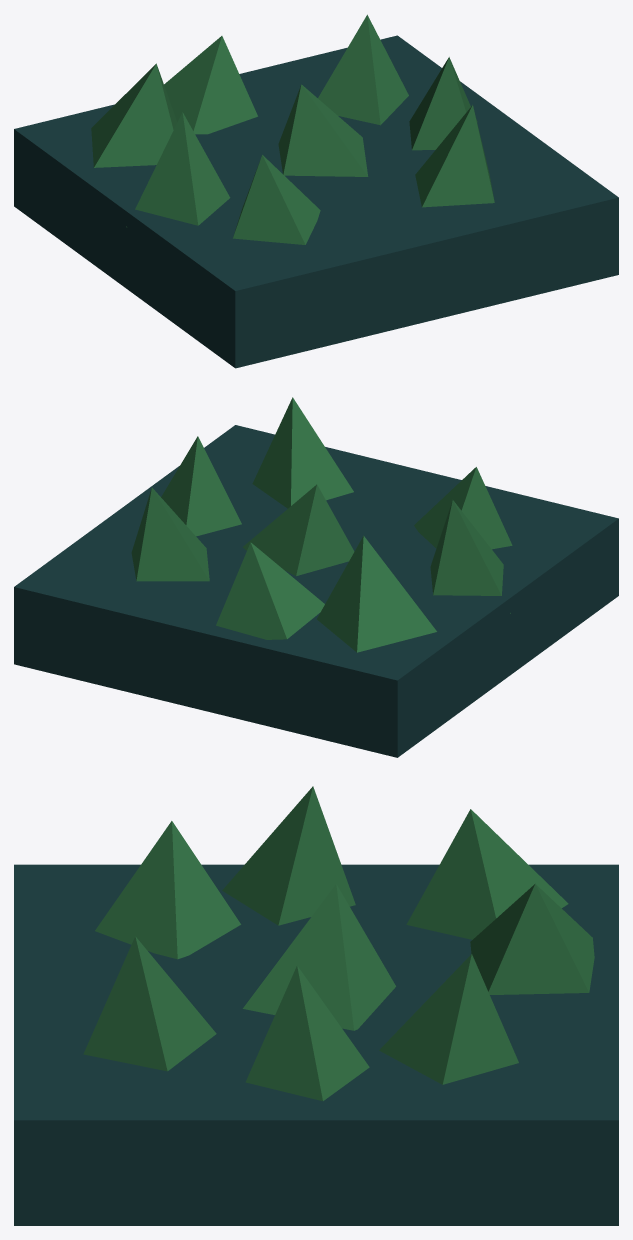
File: tuft.glb
The picture shows the model from 3 angles, top to bottom: view 1: azimuth 30°, elevation 25°; view 2: azimuth 150°, elevation 25°; view 3: azimuth 270°, elevation 25°; orthographic projection. The views are drawn at different scales.
Parts seen in each view (by area): view 1: Turf, Tuft0; view 2: Turf, Tuft0; view 3: Turf, Tuft0.
Boxes of the visible parts, x1,y1,x2,y2 form: Turf: [14, 35, 618, 368]; Tuft0: [91, 14, 494, 244]; Turf: [14, 425, 618, 757]; Tuft0: [131, 397, 512, 652]; Turf: [14, 864, 618, 1225]; Tuft0: [83, 786, 594, 1101].
Size of the model in its own units: 0.8312 by 0.3361 by 0.83.
